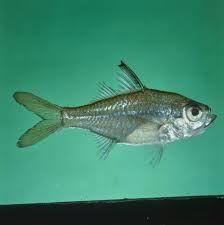Glass Perchlet: (13, 60, 218, 168)
